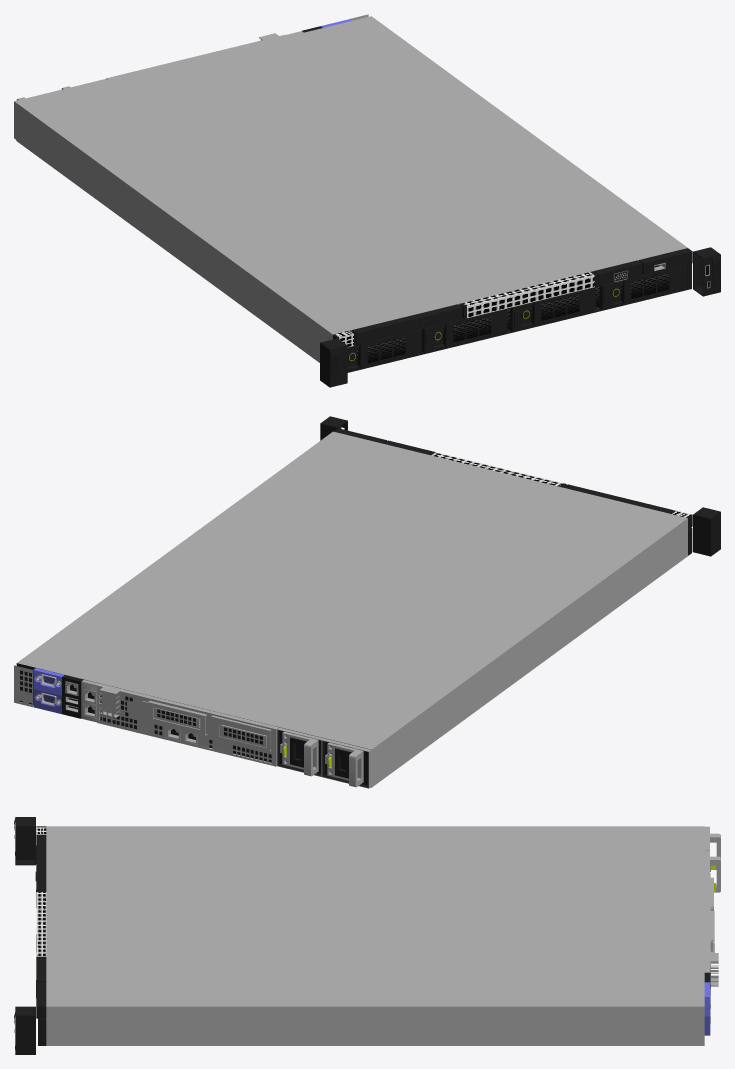
The model's file is Dell_R440.fbx.
3 renders of one model, top to bottom at view 1: azimuth 30°, elevation 25°; view 2: azimuth 150°, elevation 25°; view 3: azimuth 270°, elevation 25°, orthographic. The views are drawn at different scales.
Visible parts, largest first — view 1: Dell_R440; view 2: Dell_R440; view 3: Dell_R440.
Part boxes in pixels (<box>): Dell_R440: <box>14,14,720,387</box>; Dell_R440: <box>14,416,720,788</box>; Dell_R440: <box>14,817,720,1054</box>.
Bounding box in the file's own units: 478 × 44.5 × 719.
Materials: 7 (2 with a texture image).
